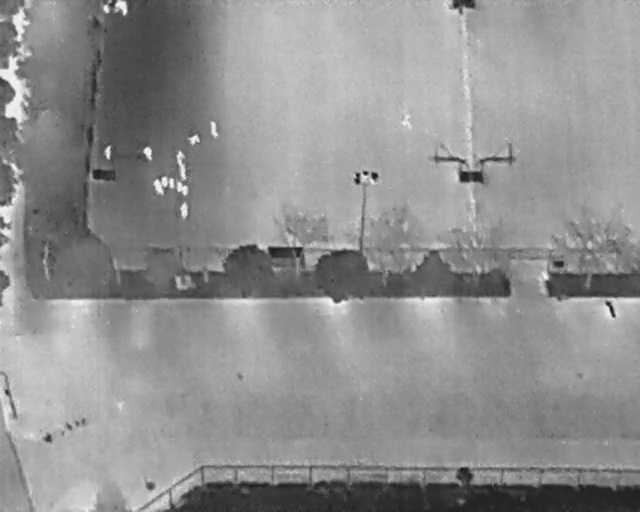Person: (151, 178, 163, 195), (116, 1, 128, 17), (209, 121, 219, 139), (400, 112, 412, 127), (180, 201, 189, 220), (187, 134, 200, 146), (103, 143, 112, 160), (144, 146, 153, 162), (176, 150, 185, 166), (180, 164, 187, 181)
